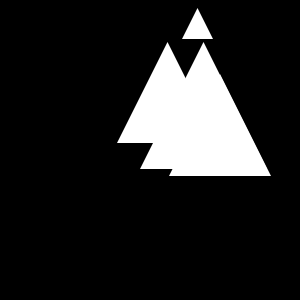triangle: (140, 42, 267, 169), (169, 74, 271, 176), (117, 42, 218, 143), (182, 8, 213, 39)
